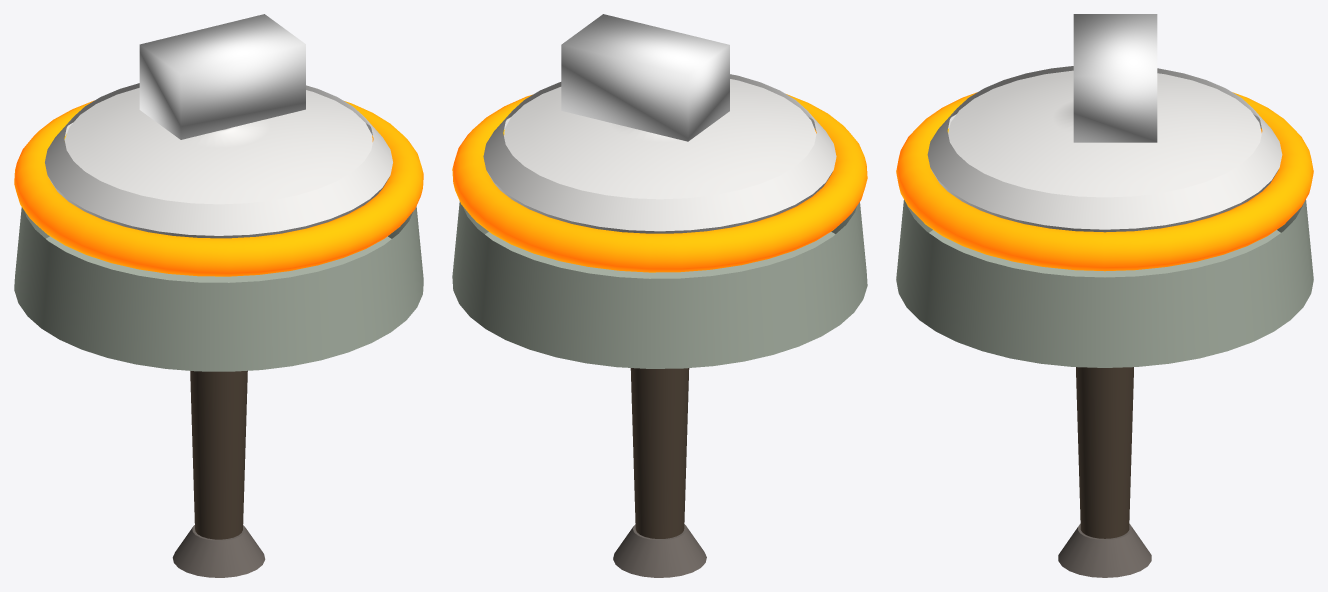
File: pin-stimme.glb
The picture shows the model from 3 angles, left to right: view 1: azimuth 30°, elevation 25°; view 2: azimuth 150°, elevation 25°; view 3: azimuth 270°, elevation 25°; orthographic projection.
Visible parts, largest first — view 1: stimme_head, stimme_plate_dome, stimme_ring, stimme_bubble, stimme_plate_bevel, stimme_stem, stimme_foot, stimme_collar, stimme_plate_wall; view 2: stimme_head, stimme_plate_dome, stimme_ring, stimme_bubble, stimme_plate_bevel, stimme_stem, stimme_foot, stimme_collar, stimme_plate_wall; view 3: stimme_head, stimme_plate_dome, stimme_ring, stimme_plate_bevel, stimme_bubble, stimme_stem, stimme_foot, stimme_collar, stimme_plate_wall.
Boxes of the visible parts, <box> form: stimme_head: <box>14,206,423,371</box>; stimme_plate_dome: <box>64,88,372,204</box>; stimme_ring: <box>14,100,423,276</box>; stimme_bubble: <box>139,14,305,139</box>; stimme_plate_bevel: <box>45,83,392,235</box>; stimme_stem: <box>190,370,247,539</box>; stimme_foot: <box>172,525,265,577</box>; stimme_collar: <box>133,268,304,282</box>; stimme_plate_wall: <box>48,123,389,238</box>; stimme_head: <box>452,201,867,368</box>; stimme_plate_dome: <box>504,79,816,199</box>; stimme_ring: <box>452,94,867,272</box>; stimme_bubble: <box>561,14,729,141</box>; stimme_plate_bevel: <box>483,74,836,231</box>; stimme_stem: <box>630,368,689,538</box>; stimme_foot: <box>613,524,706,577</box>; stimme_collar: <box>573,264,746,278</box>; stimme_plate_wall: <box>487,116,832,233</box>; stimme_head: <box>896,200,1313,367</box>; stimme_plate_dome: <box>948,70,1261,197</box>; stimme_ring: <box>896,92,1313,271</box>; stimme_plate_bevel: <box>927,66,1282,229</box>; stimme_bubble: <box>1073,14,1157,142</box>; stimme_stem: <box>1076,367,1133,538</box>; stimme_foot: <box>1058,523,1151,577</box>; stimme_collar: <box>1017,263,1192,277</box>; stimme_plate_wall: <box>931,114,1278,232</box>.
Bounding box in the file's own units: 0.796 × 1.09 × 0.796.
